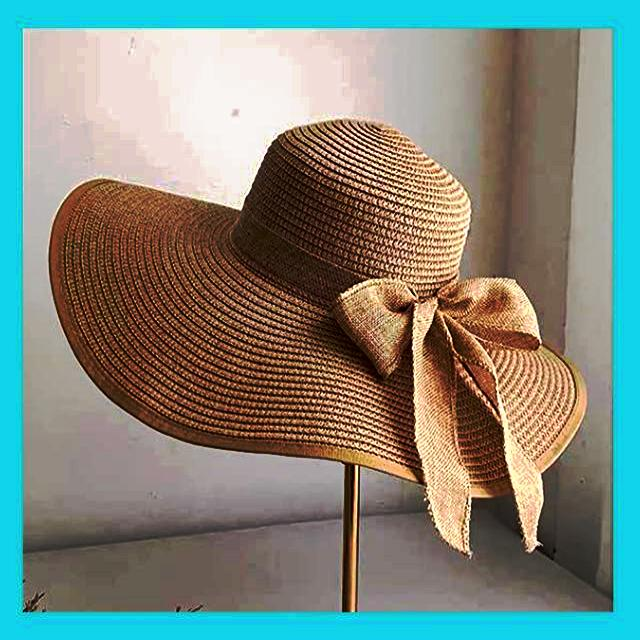TOPI: (41, 114, 592, 505)
